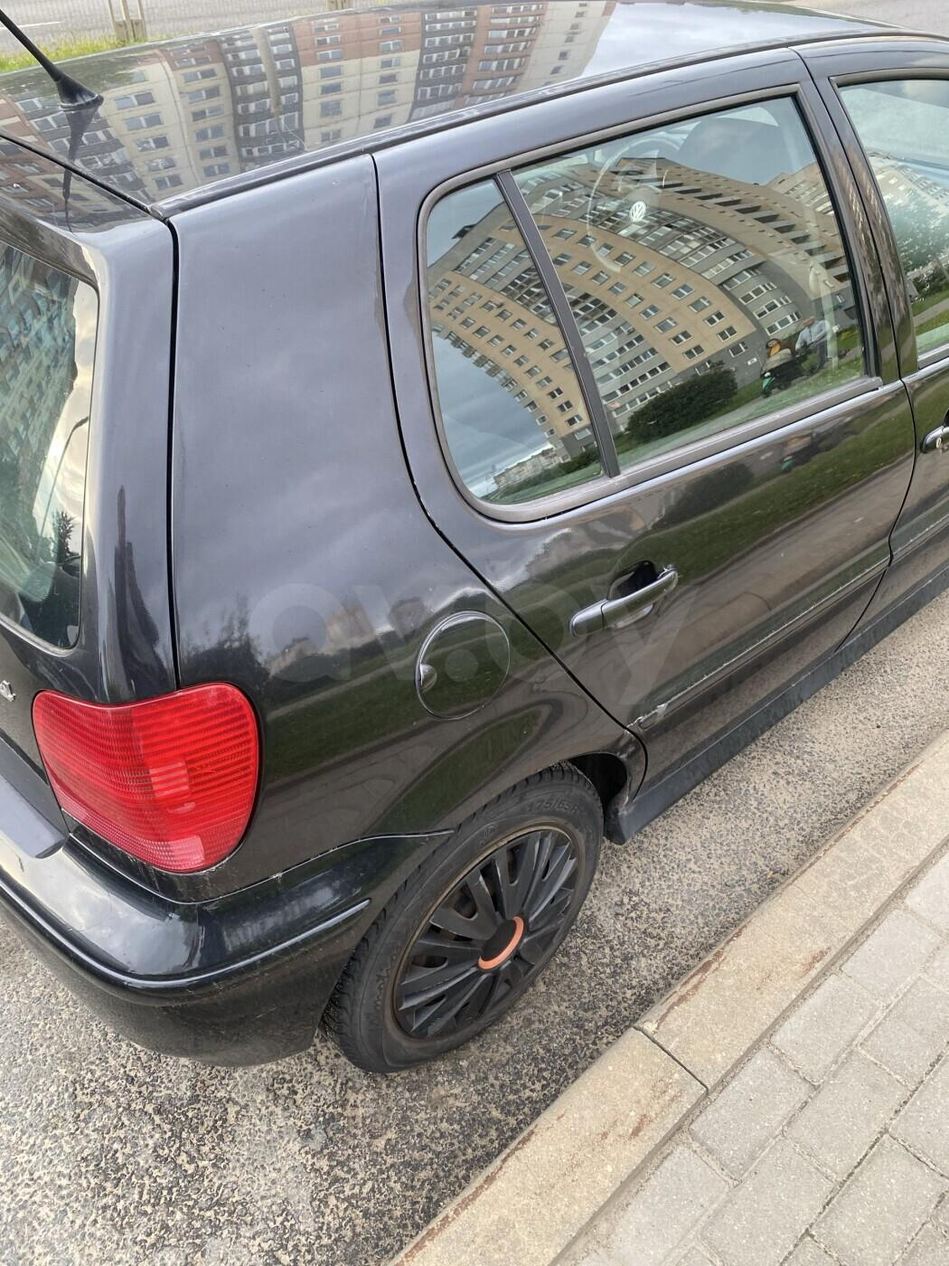Polo_2000-2002: (0, 3, 949, 1080)
